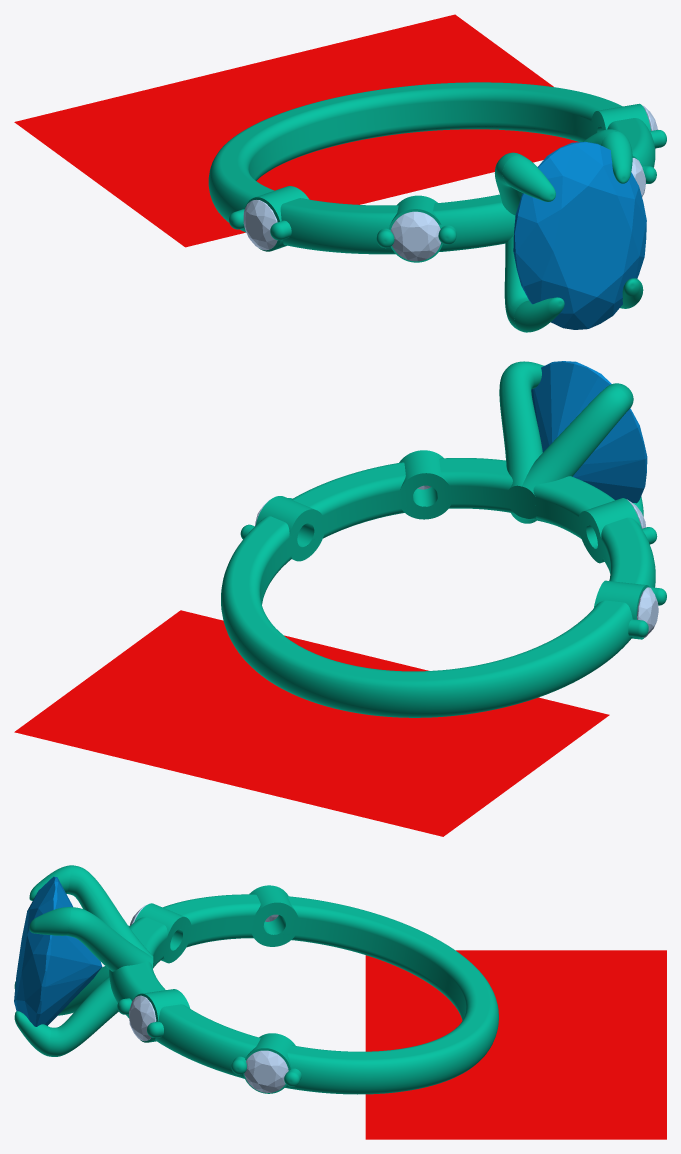
3 renders of one model, top to bottom at view 1: azimuth 30°, elevation 25°; view 2: azimuth 150°, elevation 25°; view 3: azimuth 270°, elevation 25°, orthographic. The views are drawn at different scales.
Parts seen in each view (by area): view 1: RING.JTC.SRO24(base).3dm, Diamond_Oval, Diamond_Round (×2); view 2: RING.JTC.SRO24(base).3dm, Diamond_Oval, Diamond_Round; view 3: RING.JTC.SRO24(base).3dm, Diamond_Oval, Diamond_Round (×2).
Boxes of the visible parts, box(x1,y1,x2,y2) form: RING.JTC.SRO24(base).3dm: box(14, 14, 666, 332); Diamond_Oval: box(513, 141, 646, 329); Diamond_Round (×2): box(243, 200, 440, 261); RING.JTC.SRO24(base).3dm: box(14, 361, 666, 836); Diamond_Oval: box(531, 361, 647, 503); Diamond_Round: box(637, 587, 658, 637); RING.JTC.SRO24(base).3dm: box(14, 865, 666, 1139); Diamond_Oval: box(14, 876, 102, 1026); Diamond_Round (×2): box(129, 995, 288, 1092).
Size of what is drawn, in the model's own units: 2.69 by 1.06 by 3.92.
